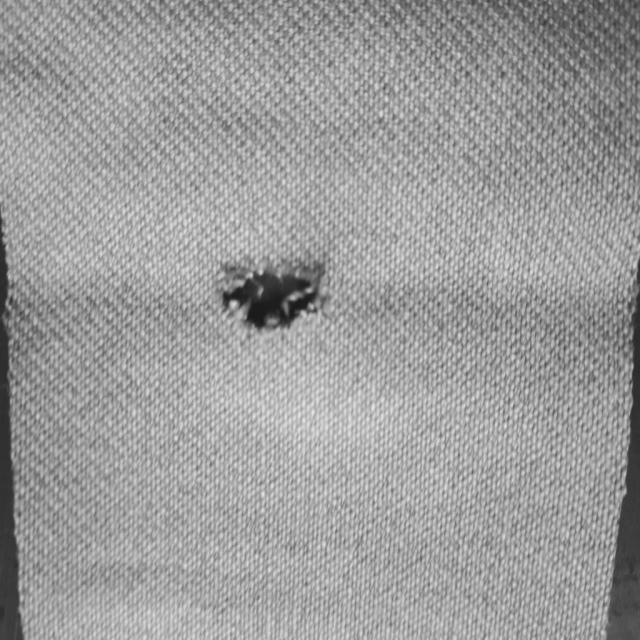seam: (144, 195, 392, 406)
